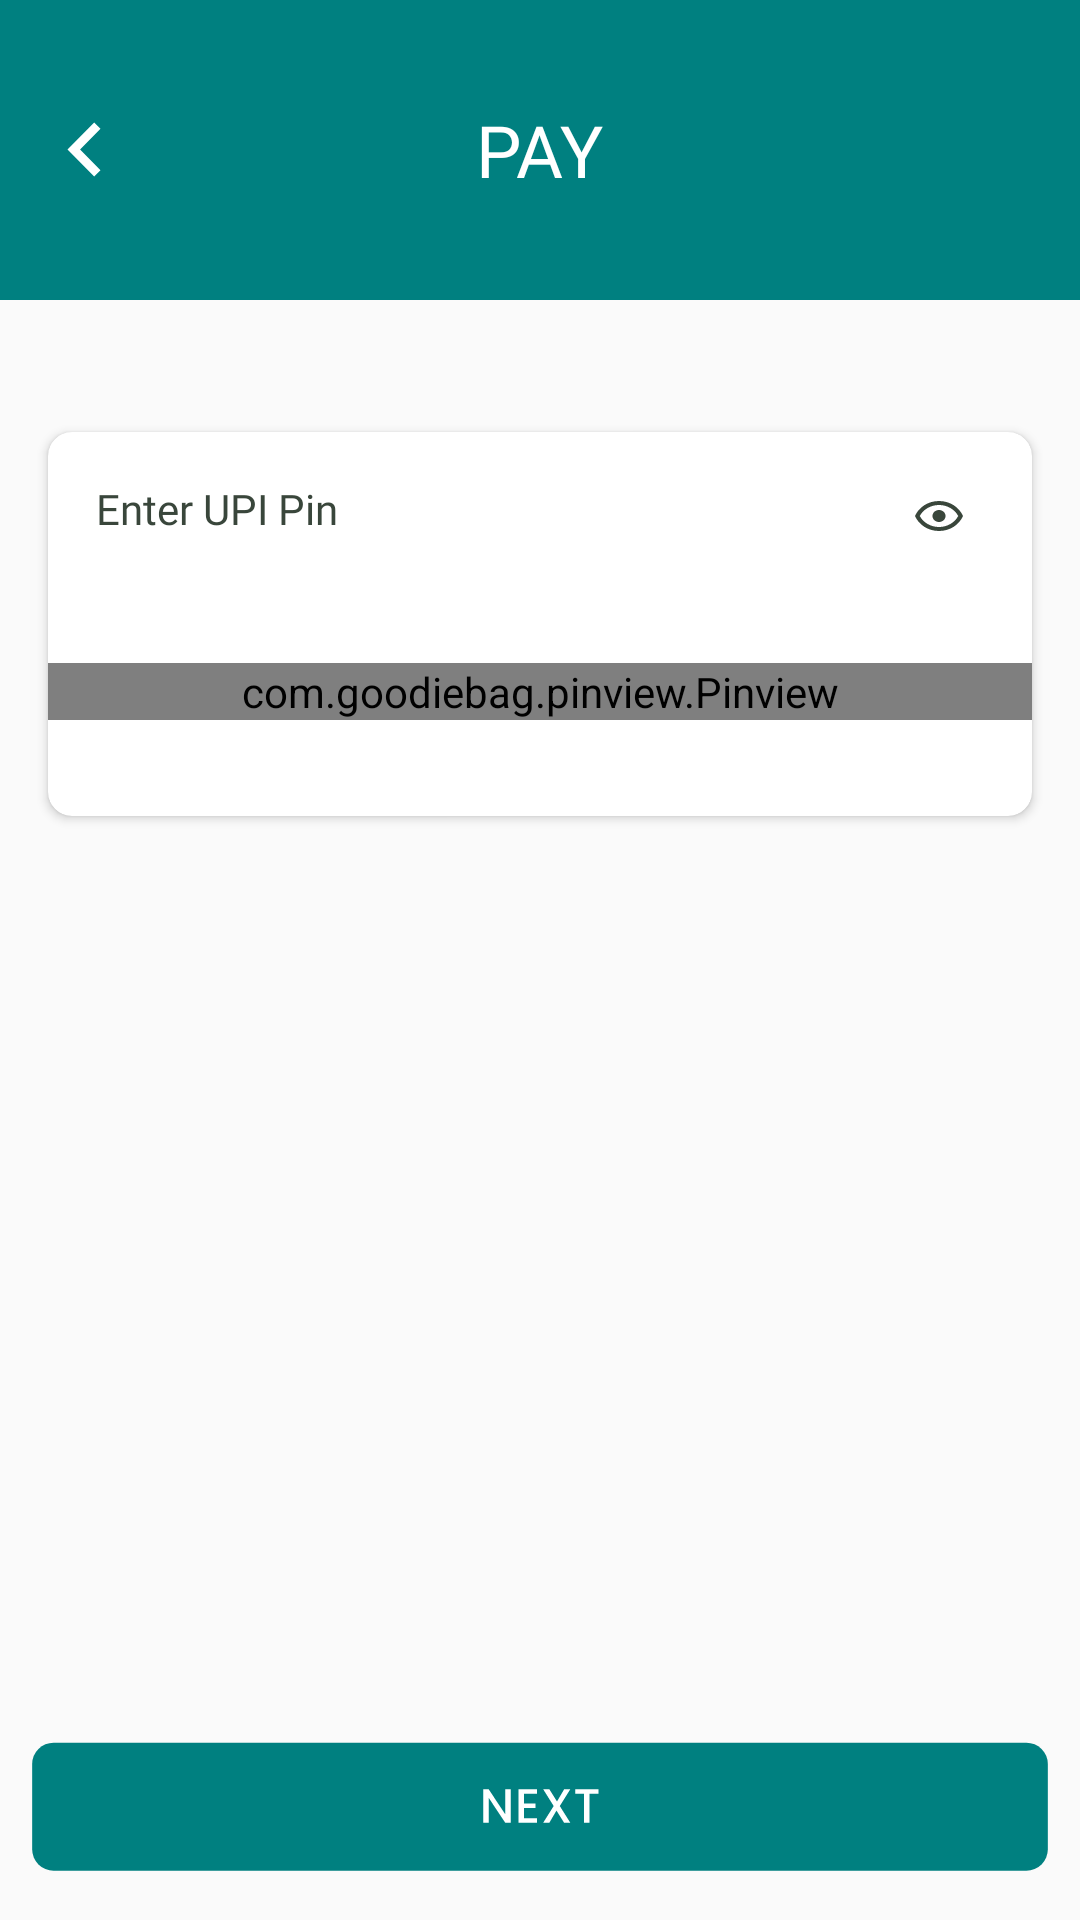

Icons on this 1080×1920 Android screen, each with its box as (x1, y1, x2, y2):
backword: (67, 122, 101, 177)
visible: (915, 501, 963, 531)
